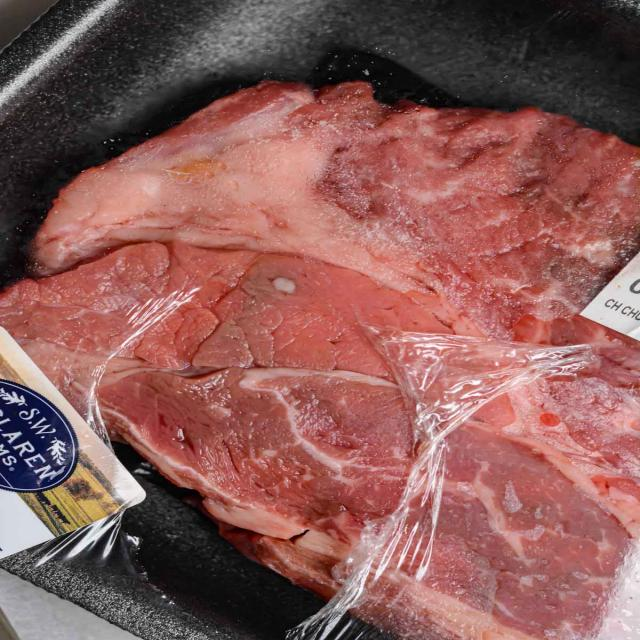pork belly: (41, 116, 640, 536)
